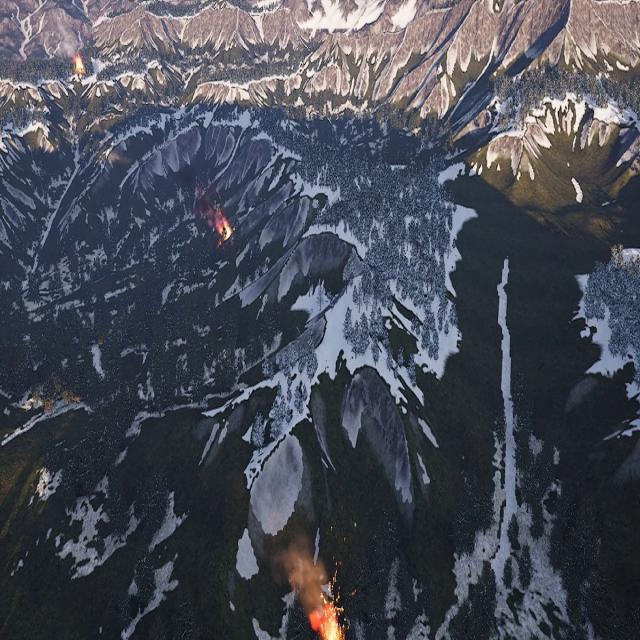fire: (310, 603, 344, 640), (217, 216, 232, 239), (74, 57, 84, 74)
smoke: (271, 511, 338, 606), (180, 163, 224, 231), (52, 9, 80, 59)
